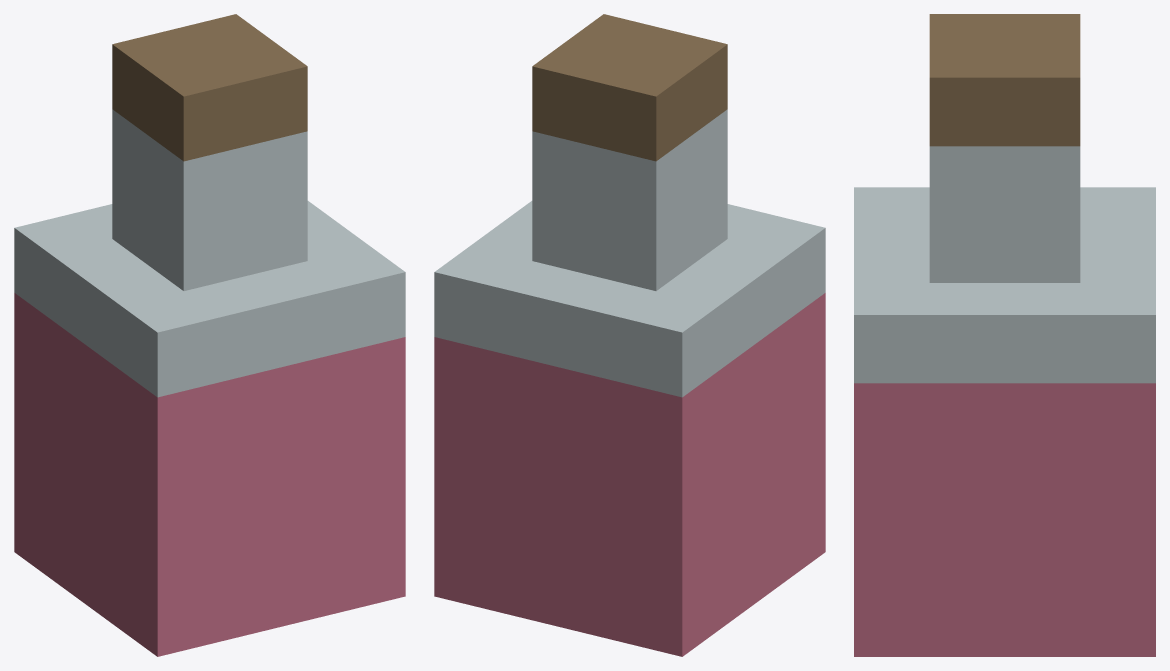
The model's file is tonico_curativo_01.glb.
3 views of the same model, side by side, from view 1: azimuth 30°, elevation 25°; view 2: azimuth 150°, elevation 25°; view 3: azimuth 270°, elevation 25° (orthographic). The views are drawn at different scales.
Parts seen in each view (by area): view 1: tonico_curativo; view 2: tonico_curativo; view 3: tonico_curativo.
Part boxes in pixels (<box>): tonico_curativo: <box>14,14,405,656</box>; tonico_curativo: <box>434,14,825,656</box>; tonico_curativo: <box>854,14,1155,656</box>.
Size of the model in its own units: 0.3333 by 0.6667 by 0.3333.
